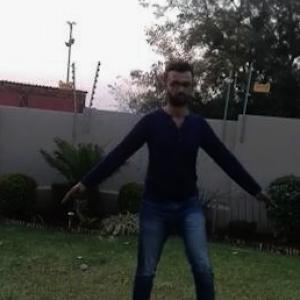land: (73, 63, 270, 299)
